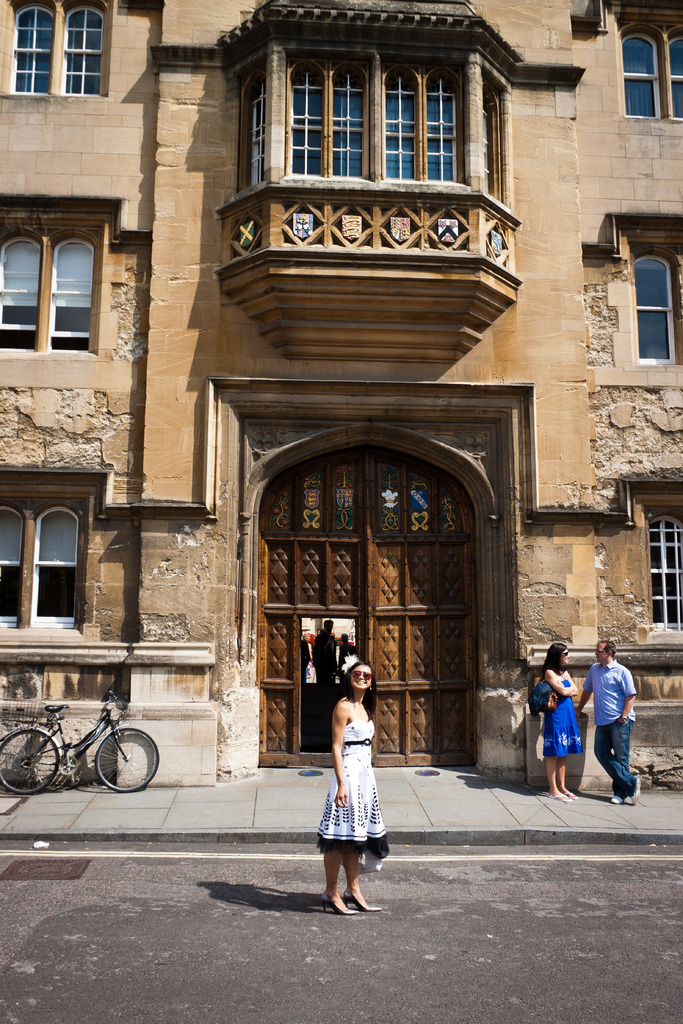Bike: (20, 709, 150, 804)
